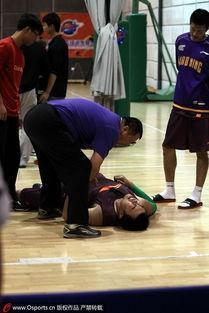Fall-Detected: (6, 151, 156, 231)
